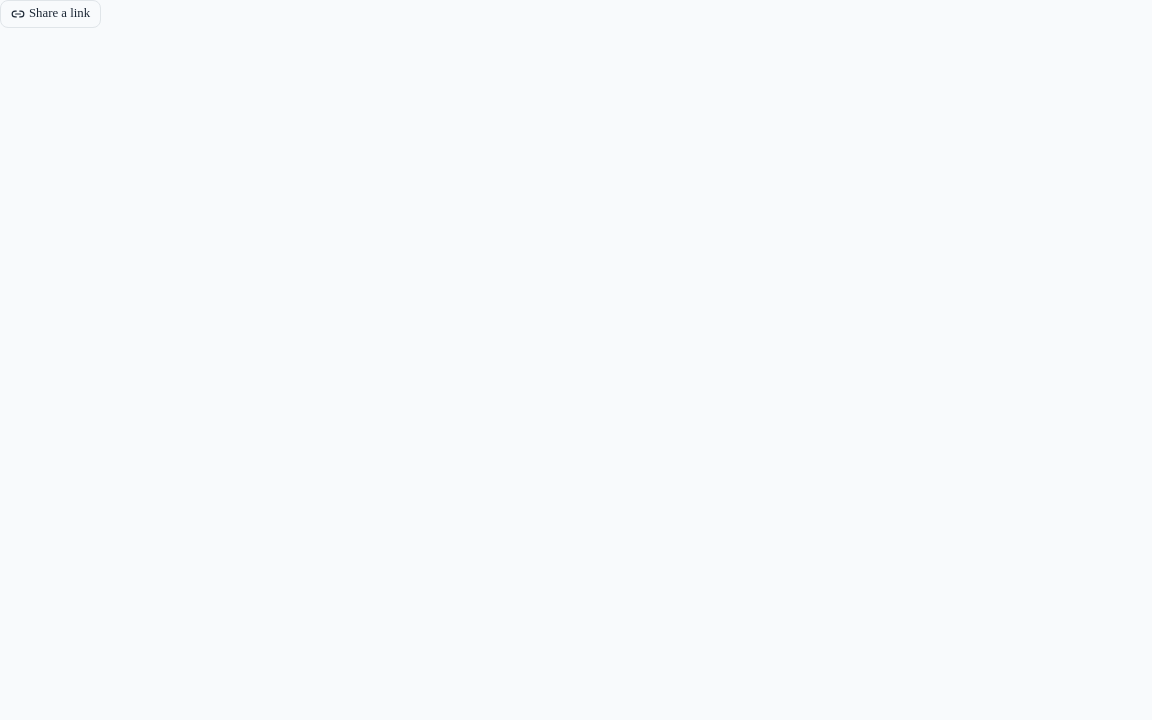
ShareLinkButton › offers translate-now for a Russian link only while Russian names are missing
Click the button "Share a link" at coordinates (51, 14), box left=0, top=0, right=101, bottom=28
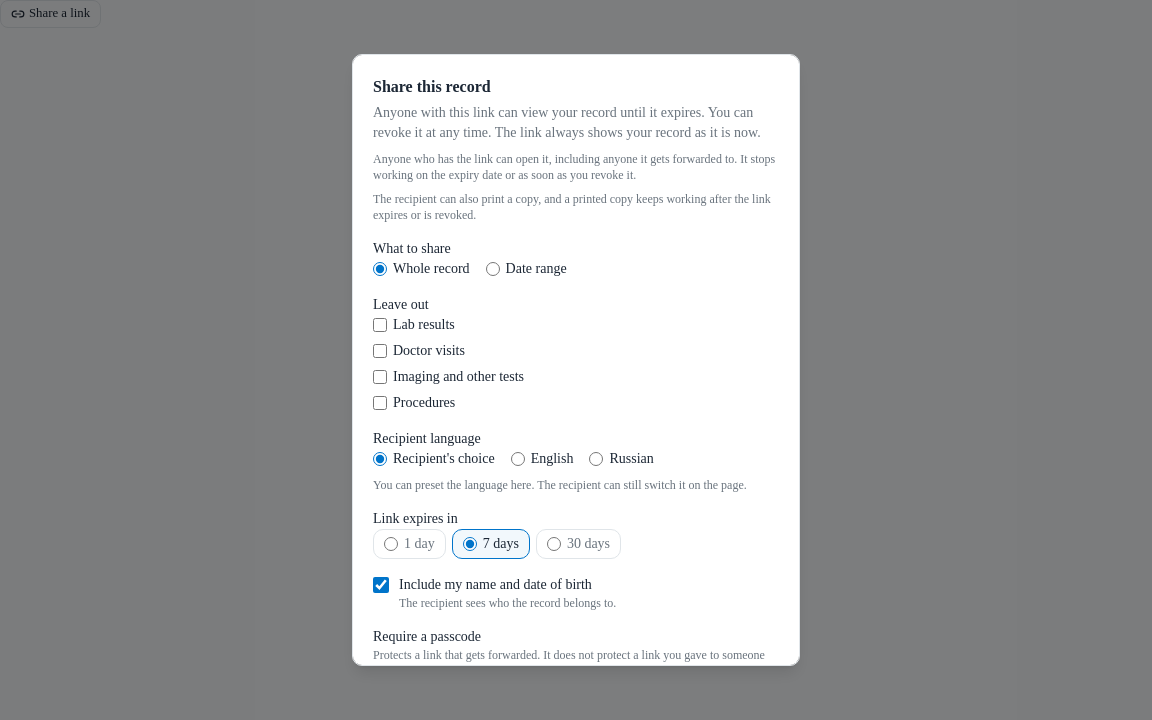
Click the radio button labelled "Russian" at coordinates (596, 459), box left=589, top=452, right=603, bottom=466
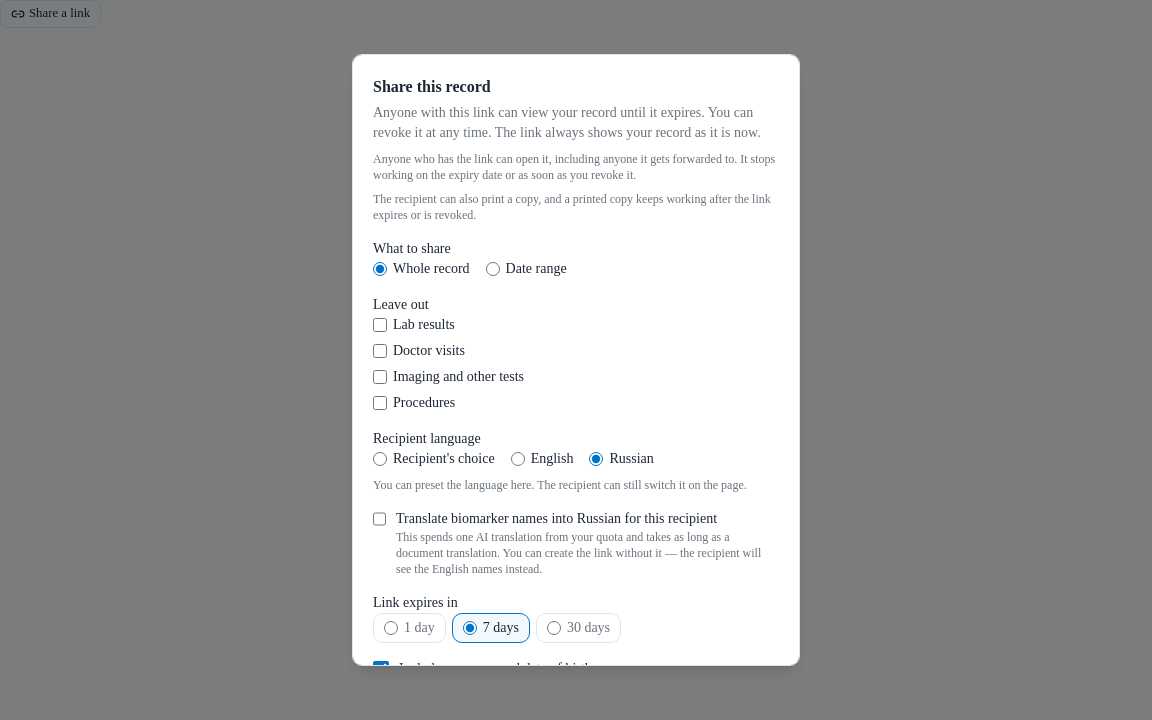
Now the checkbox with test id "share-translate-now" is shown
Now the text "spends one AI translation from your quota" is shown, box left=396, top=530, right=761, bottom=576
Click the checkbox with test id "share-translate-now" at coordinates (380, 519), box left=373, top=511, right=386, bottom=527
(page scrolled)
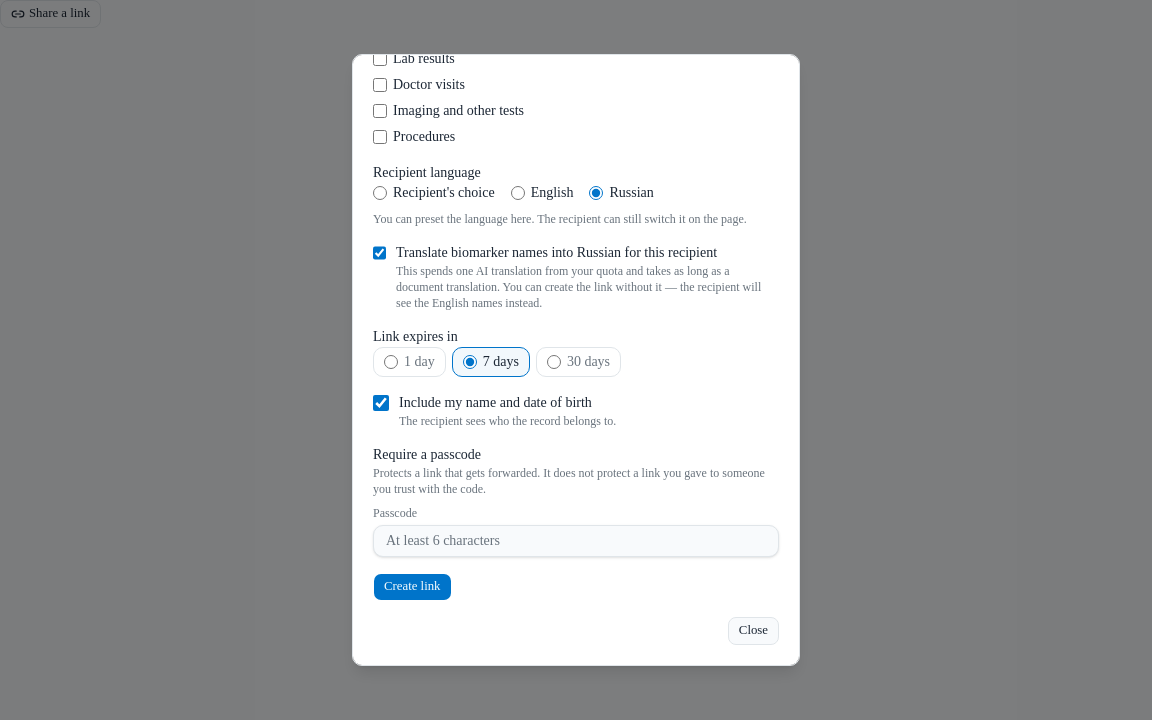
Click the button "Create link" at coordinates (412, 587), box left=373, top=573, right=452, bottom=601
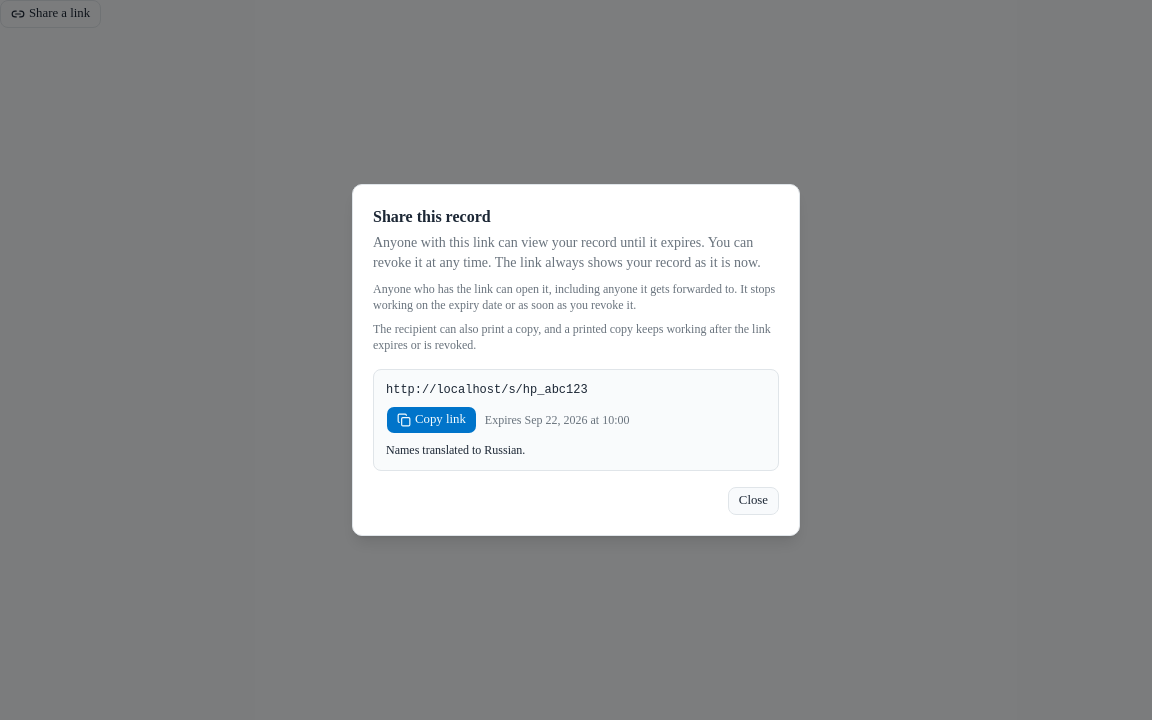
Now the text "Names translated to Russian." is shown, box left=386, top=443, right=525, bottom=457
